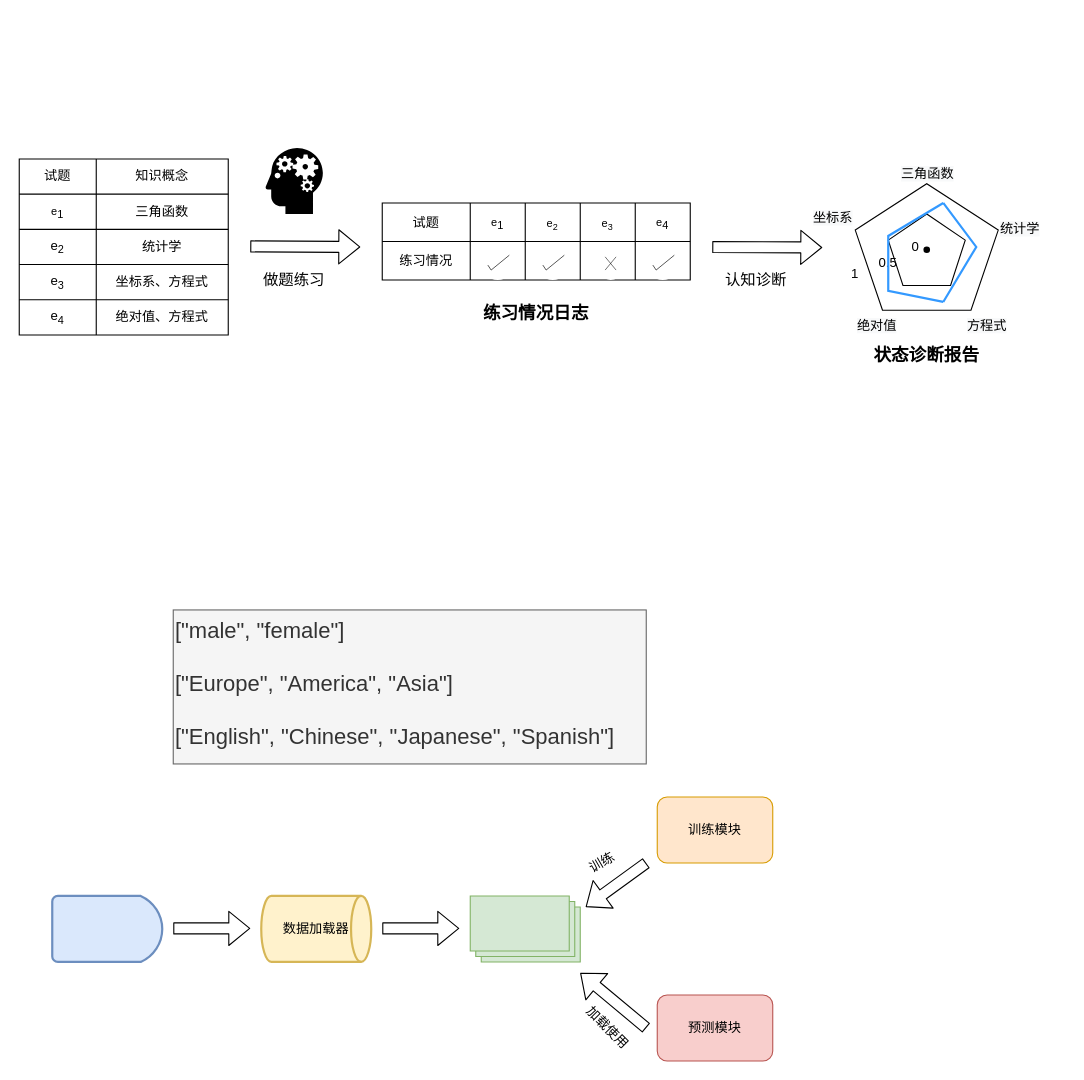
Image size: 1084x1080. Some labels were removed from this diagram. The shapes that lost their labels are listed below. From the top down, each one's centre as x and y in pixels, then its label:
At point 107,928: "数据集划分".
At point 524,928: "三层神经网络".
